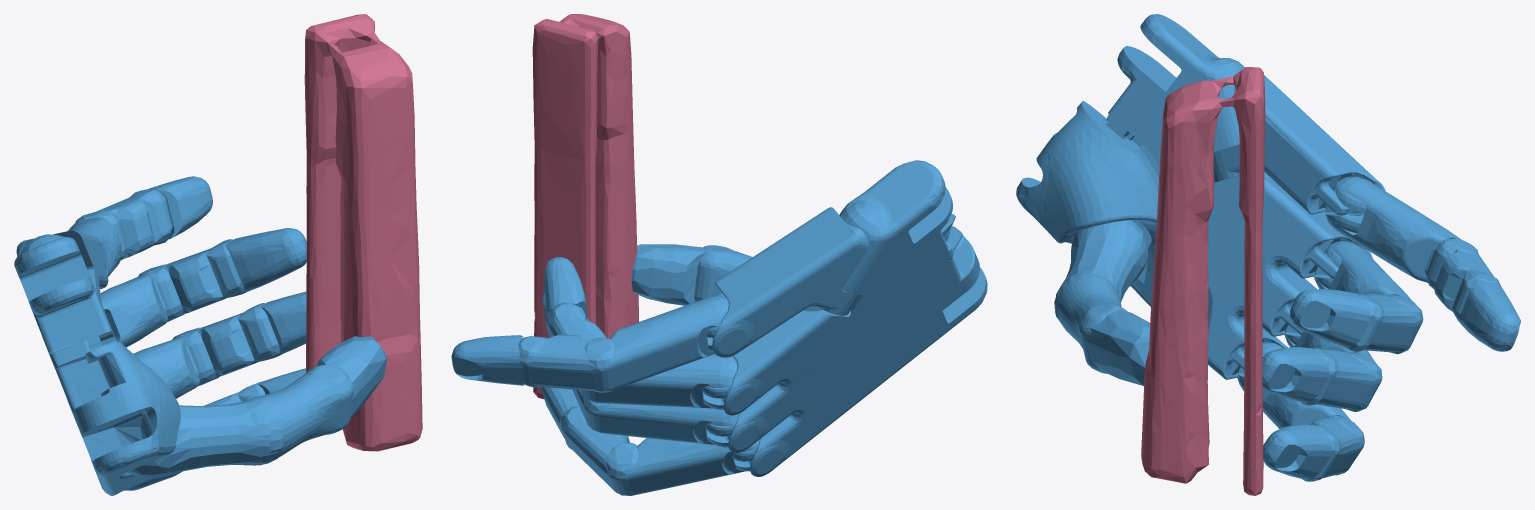
3 renders of one model, left to right at view 1: azimuth 30°, elevation 25°; view 2: azimuth 150°, elevation 25°; view 3: azimuth 270°, elevation 25°, orthographic. The views are drawn at different scales.
Parts seen in each view (by area): view 1: 7; view 2: 7; view 3: 7.
Boxes of the visible parts, x1,y1,x2,y2 form: 7: [14, 14, 422, 495]; 7: [451, 14, 987, 495]; 7: [1016, 14, 1520, 495].
Bounding box in the file's own units: 0.1524 × 0.1651 × 0.1689.
